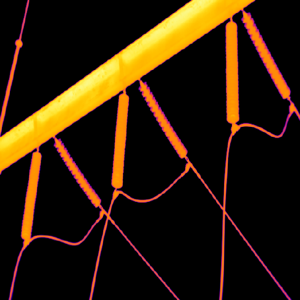insulator: (241, 6, 291, 100), (139, 80, 187, 158), (53, 137, 101, 207), (19, 148, 42, 241), (111, 91, 130, 188), (225, 21, 239, 125)
